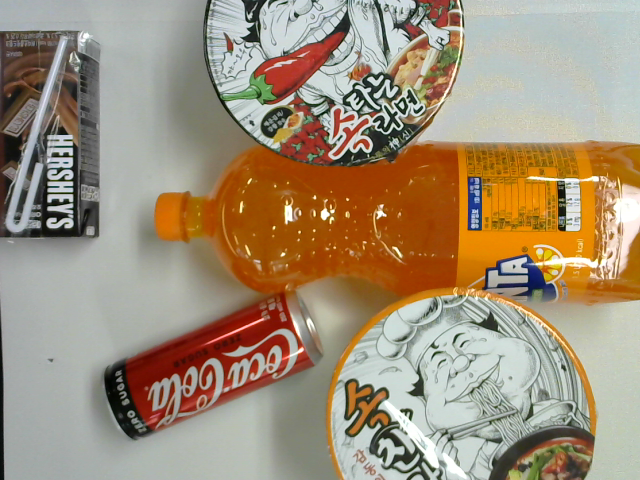Coca_Cola_Zero_Can_250ml: (96, 283, 326, 445)
HeJangsock: (199, 1, 465, 170)
Hejangchan: (326, 287, 596, 480)
Hush_Choco_Drink: (1, 26, 104, 240)
Hwanta_Orange_1.5L: (152, 137, 640, 311)
